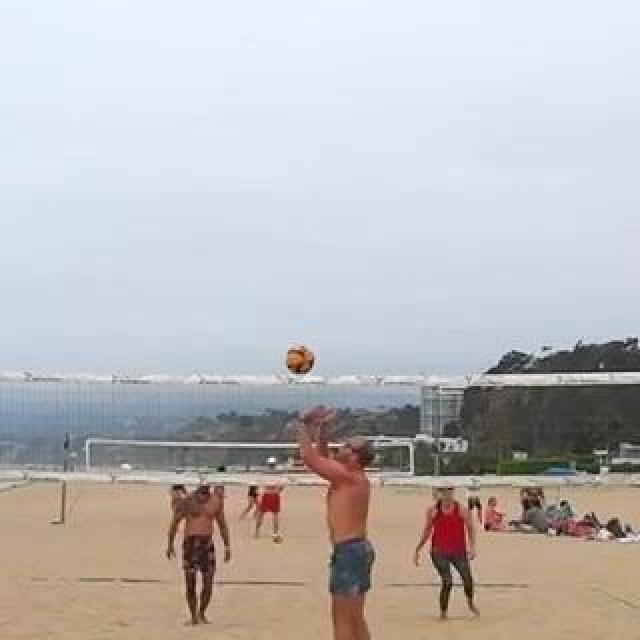volleyball: (285, 346, 317, 376), (273, 534, 283, 544)
